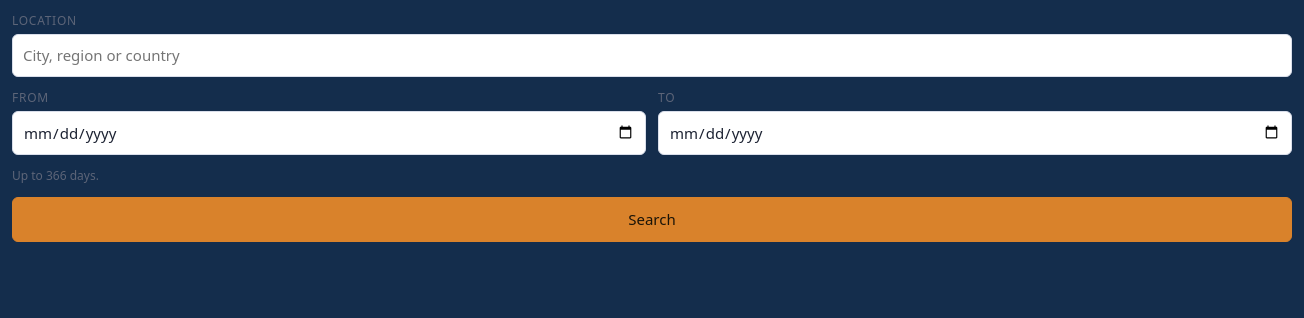
Test: SearchForm › rejects a start date after the end date
Type "Santiago" into the field labelled "Location" at (652, 55), box [12,34,1292,76]
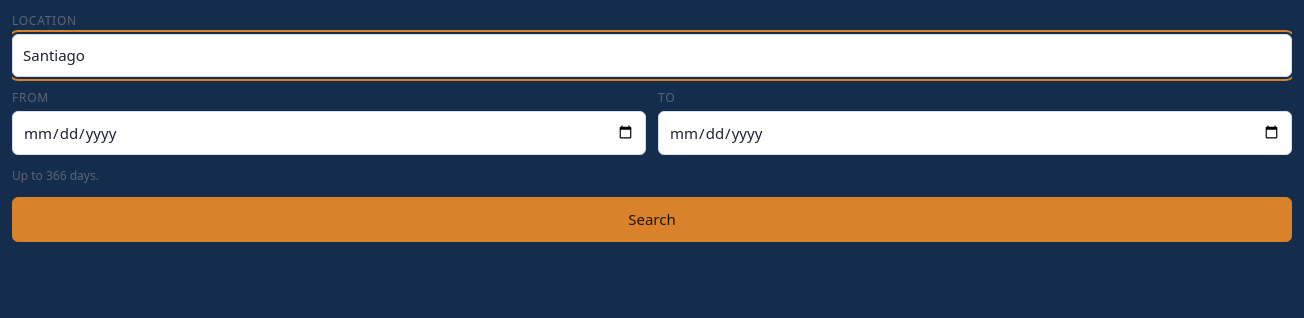
Type "2026-06-22" into the date field labelled "From" at (329, 133), box [12,110,646,155]
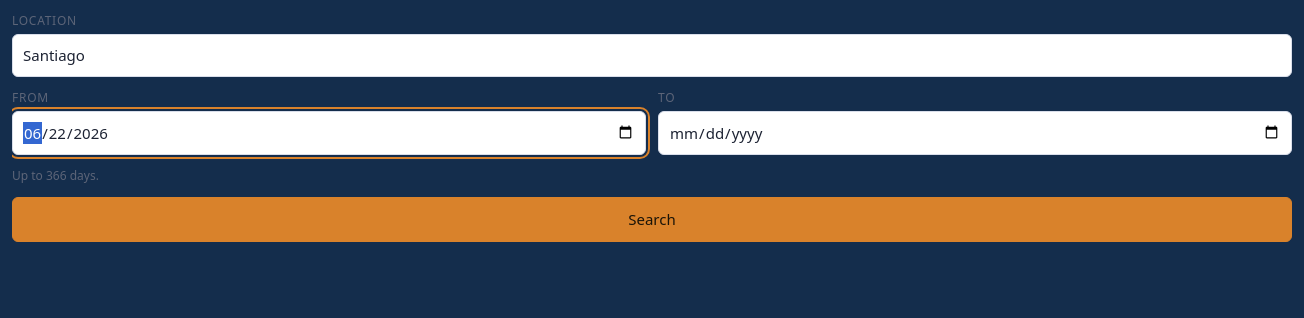
Type "2026-06-21" into the date field labelled "To" at (975, 133), box [658,110,1292,155]
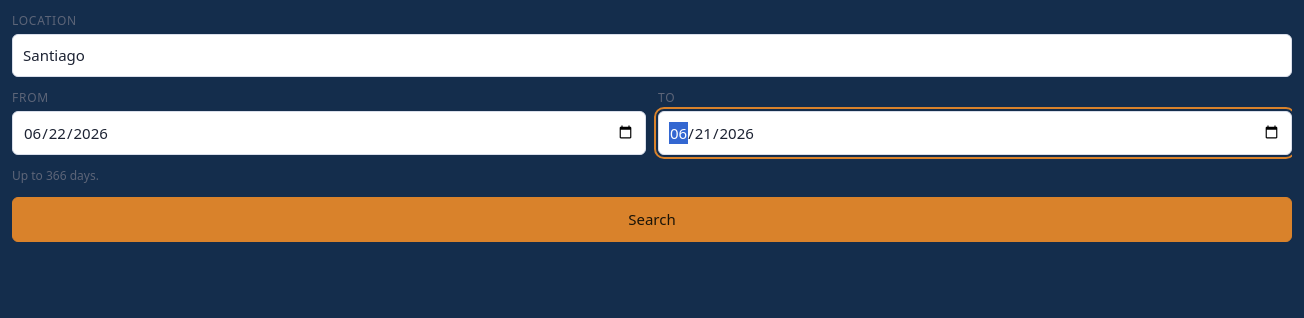
Click the button "Search" at (652, 219), box [12,197,1292,242]
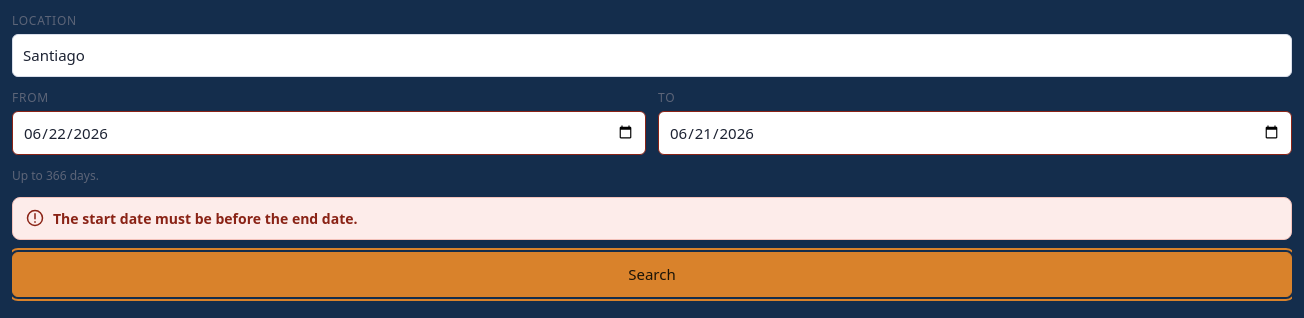
Now the message reads "The start date must be before the end date.", box [53,209,358,228]
